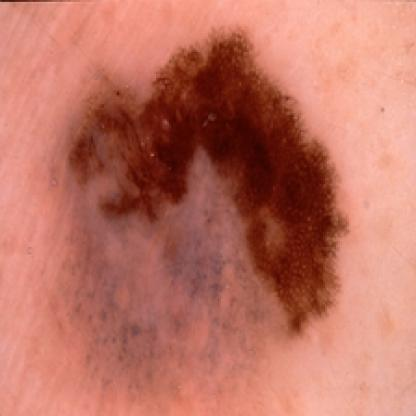malignant: (78, 76, 145, 128)
